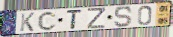0: (137, 5, 154, 26)
C: (37, 11, 59, 32)
K: (19, 11, 36, 32)
S: (114, 6, 134, 29)
T: (66, 9, 83, 30)
Z: (86, 7, 106, 30)
